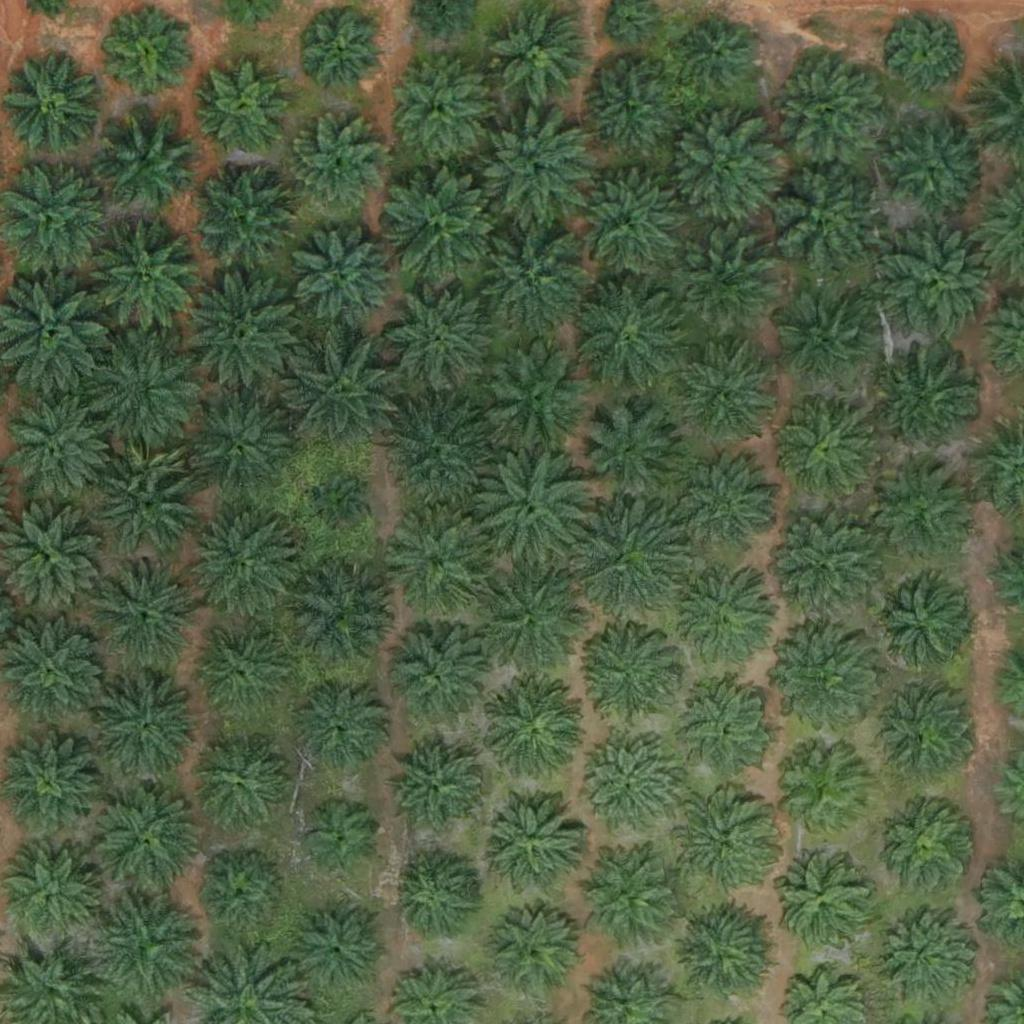Kelapa_Sawit: (79, 330, 204, 456), (175, 272, 300, 398), (280, 331, 405, 457), (381, 162, 506, 288), (377, 391, 502, 517), (464, 211, 589, 337), (474, 442, 599, 568), (569, 273, 694, 399), (564, 498, 689, 624), (769, 46, 894, 172), (757, 157, 882, 283), (762, 504, 887, 630), (877, 221, 1002, 347), (470, 556, 595, 682), (565, 165, 690, 290), (84, 884, 209, 1009), (89, 221, 202, 335), (189, 162, 302, 276), (288, 557, 401, 671), (181, 389, 294, 502), (186, 506, 299, 619), (478, 111, 591, 224), (479, 343, 592, 456), (574, 399, 687, 512), (673, 453, 786, 566), (765, 628, 878, 741), (661, 561, 774, 674), (94, 671, 207, 784), (91, 784, 204, 897), (386, 506, 498, 620), (88, 441, 200, 554), (289, 223, 401, 336), (380, 280, 492, 393), (667, 114, 779, 227), (668, 226, 780, 339), (185, 620, 297, 733), (90, 554, 202, 667), (285, 116, 385, 217), (389, 57, 489, 158), (489, 5, 589, 106), (578, 59, 678, 160), (777, 293, 877, 394), (778, 394, 878, 495), (885, 349, 985, 450), (873, 454, 973, 555), (869, 571, 969, 672), (871, 683, 971, 784), (879, 795, 979, 896), (874, 900, 974, 1001), (774, 740, 874, 841), (676, 681, 776, 782), (674, 792, 774, 893), (577, 625, 677, 726), (286, 903, 386, 1004), (191, 734, 291, 835), (2, 624, 102, 725), (2, 51, 102, 151), (97, 109, 197, 209), (883, 118, 983, 218), (669, 908, 769, 1008), (579, 734, 679, 834), (578, 845, 678, 945), (482, 683, 582, 783), (482, 793, 582, 893), (484, 905, 584, 1005), (382, 627, 482, 727), (389, 740, 489, 840), (290, 682, 390, 782), (773, 854, 872, 955), (200, 61, 288, 149), (299, 10, 387, 98), (680, 349, 768, 437), (193, 850, 281, 938), (106, 15, 193, 103), (386, 852, 473, 940), (890, 15, 965, 91), (301, 797, 376, 873), (681, 18, 756, 93), (310, 477, 373, 540)
